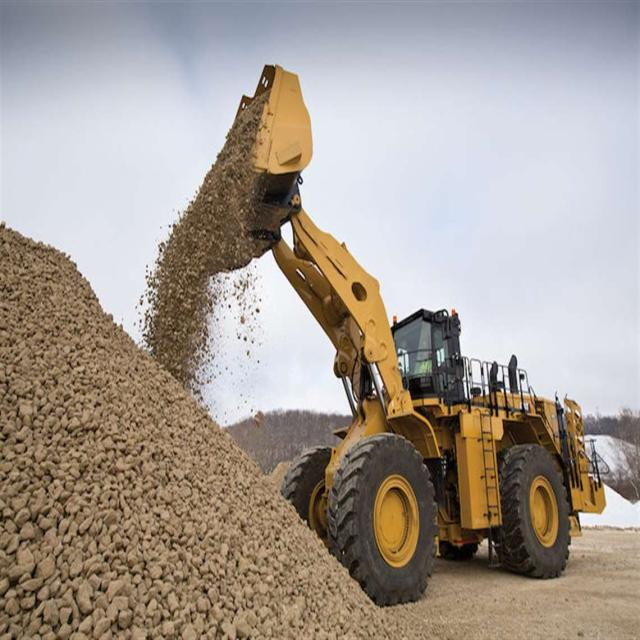buldozerpayloadergrader: (210, 47, 610, 603)
